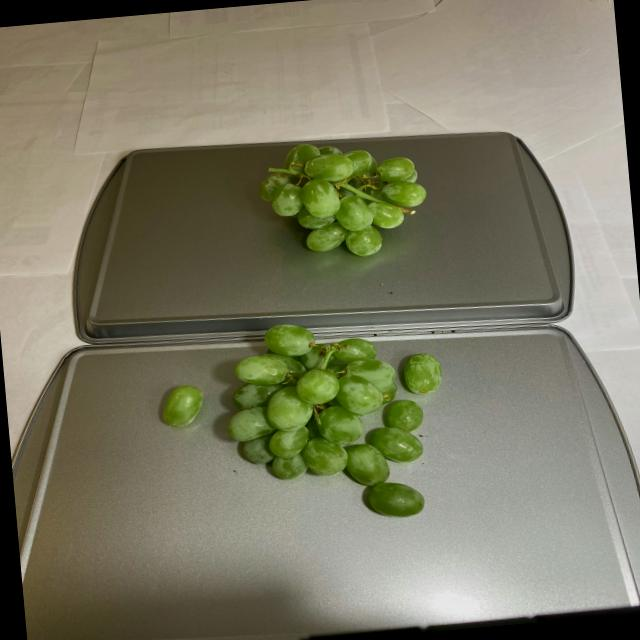grapes: (158, 314, 448, 540), (255, 133, 432, 264)
